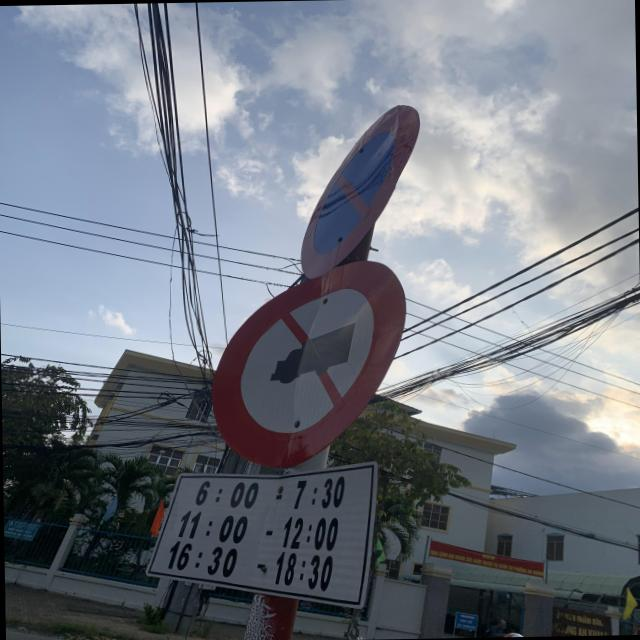Cam_Dau_Xe: (298, 101, 424, 278)
Cam_Xe_Tai: (210, 258, 412, 468)
